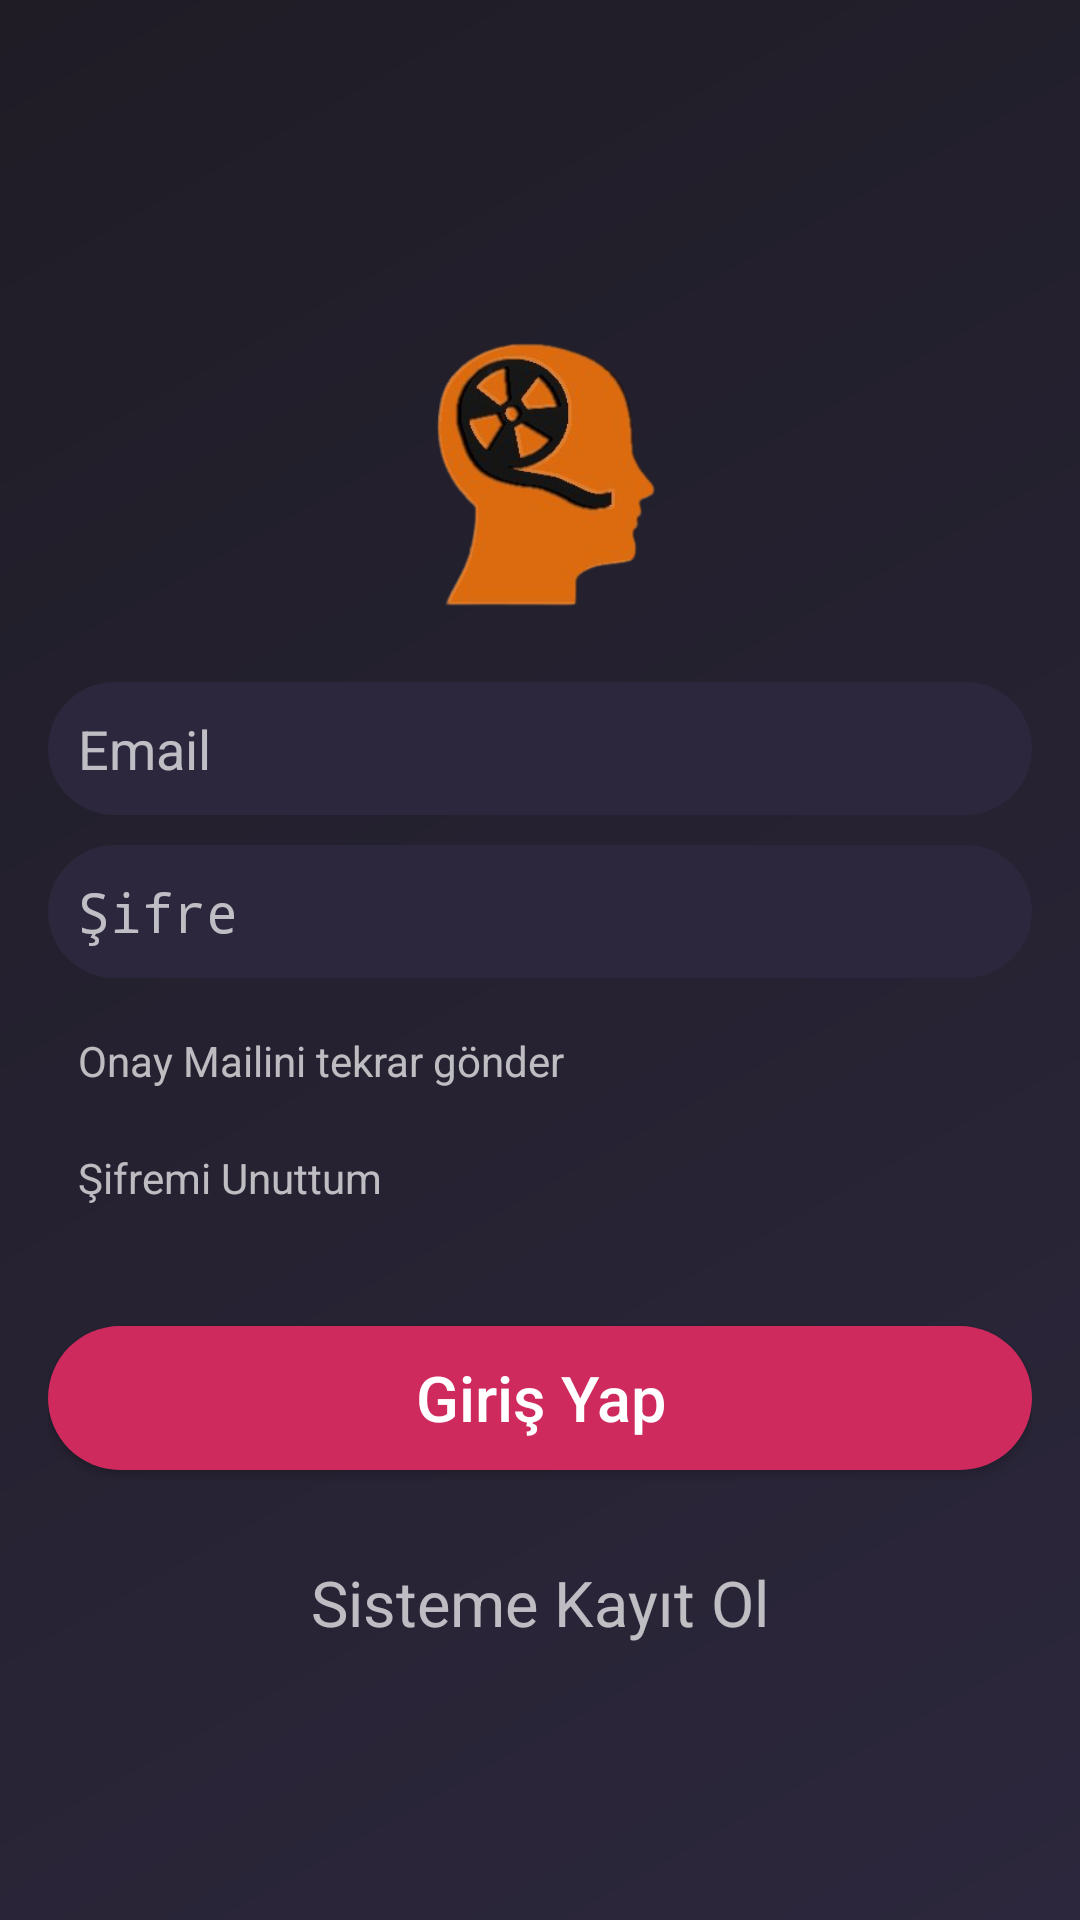

Point at icon controls on the screen. Image size 1080 x 1920, points as (x=x, y=y).
head: (x=546, y=475)
